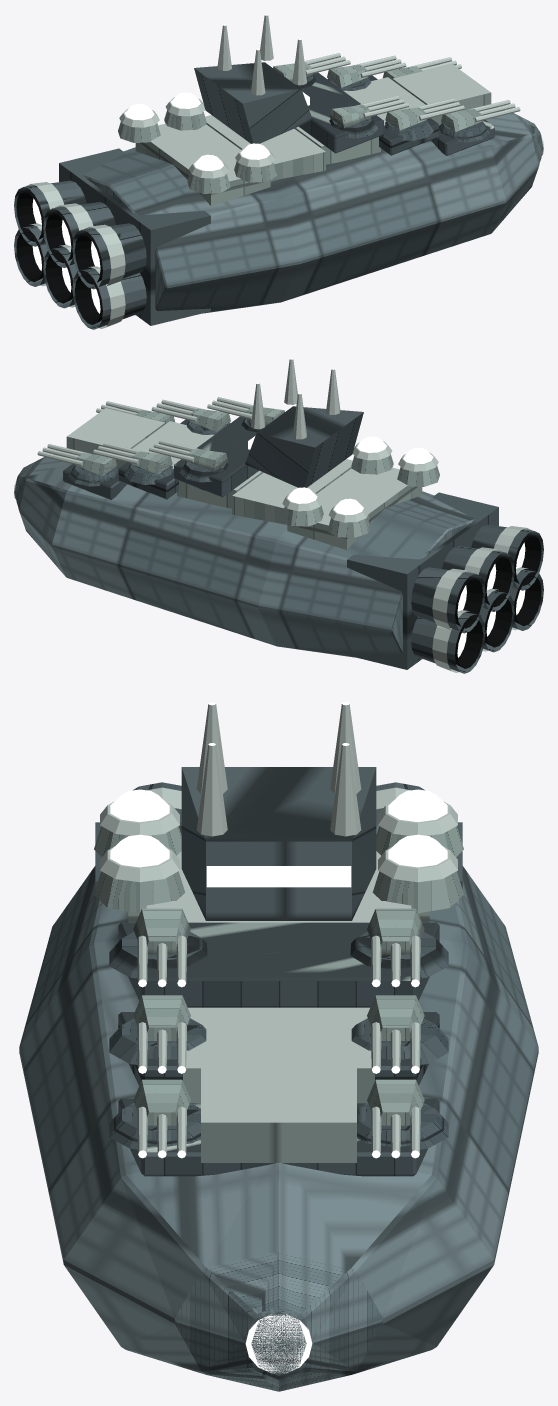
Rendered from dreadnought.glb.
The picture shows the model from 3 angles, top to bottom: view 1: azimuth 30°, elevation 25°; view 2: azimuth 150°, elevation 25°; view 3: azimuth 270°, elevation 25°; orthographic projection. The views are drawn at different scales.
Parts seen in each view (by area): view 1: hull_body, engine_block, weapon_turrets, sensor_tower, shield_domes; view 2: hull_body, engine_block, weapon_turrets, sensor_tower, shield_domes; view 3: hull_body, weapon_turrets, sensor_tower, shield_domes, engine_block.
Boxes of the visible parts, x1,y1,x2,y2 form: hull_body: [83, 64, 543, 313]; engine_block: [14, 148, 210, 329]; weapon_turrets: [273, 53, 543, 155]; sensor_tower: [194, 14, 312, 143]; shield_domes: [118, 92, 276, 193]; hull_body: [14, 408, 474, 657]; engine_block: [347, 492, 543, 673]; weapon_turrets: [14, 397, 284, 499]; sensor_tower: [245, 358, 363, 487]; shield_domes: [281, 436, 439, 537]; hull_body: [19, 826, 538, 1391]; weapon_turrets: [109, 908, 448, 1373]; sensor_tower: [181, 702, 376, 920]; shield_domes: [94, 789, 463, 913]; engine_block: [95, 782, 462, 896].
Bounding box in the file's own units: 80 × 39.58 × 37.71.
Materials: 1 (1 with a texture image).
